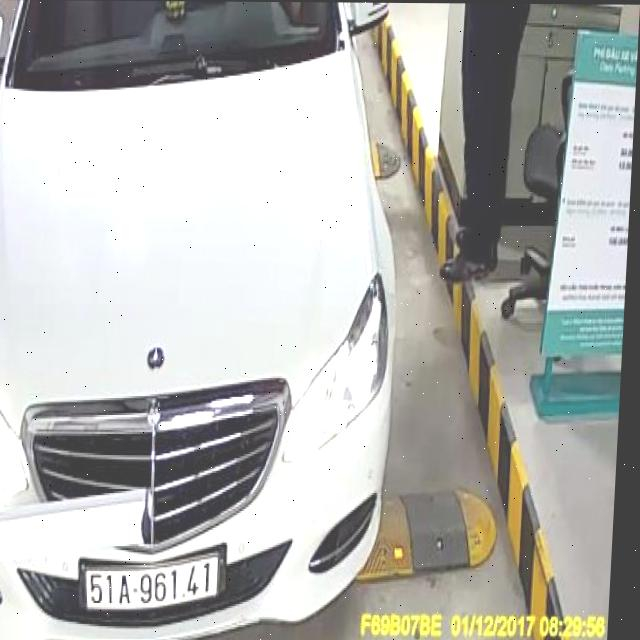car: (0, 1, 414, 624)
plate: (76, 559, 225, 612)
